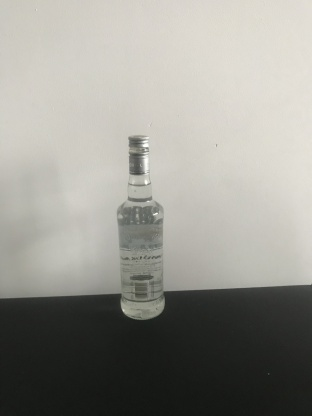nakretka: (126, 133, 150, 175)
